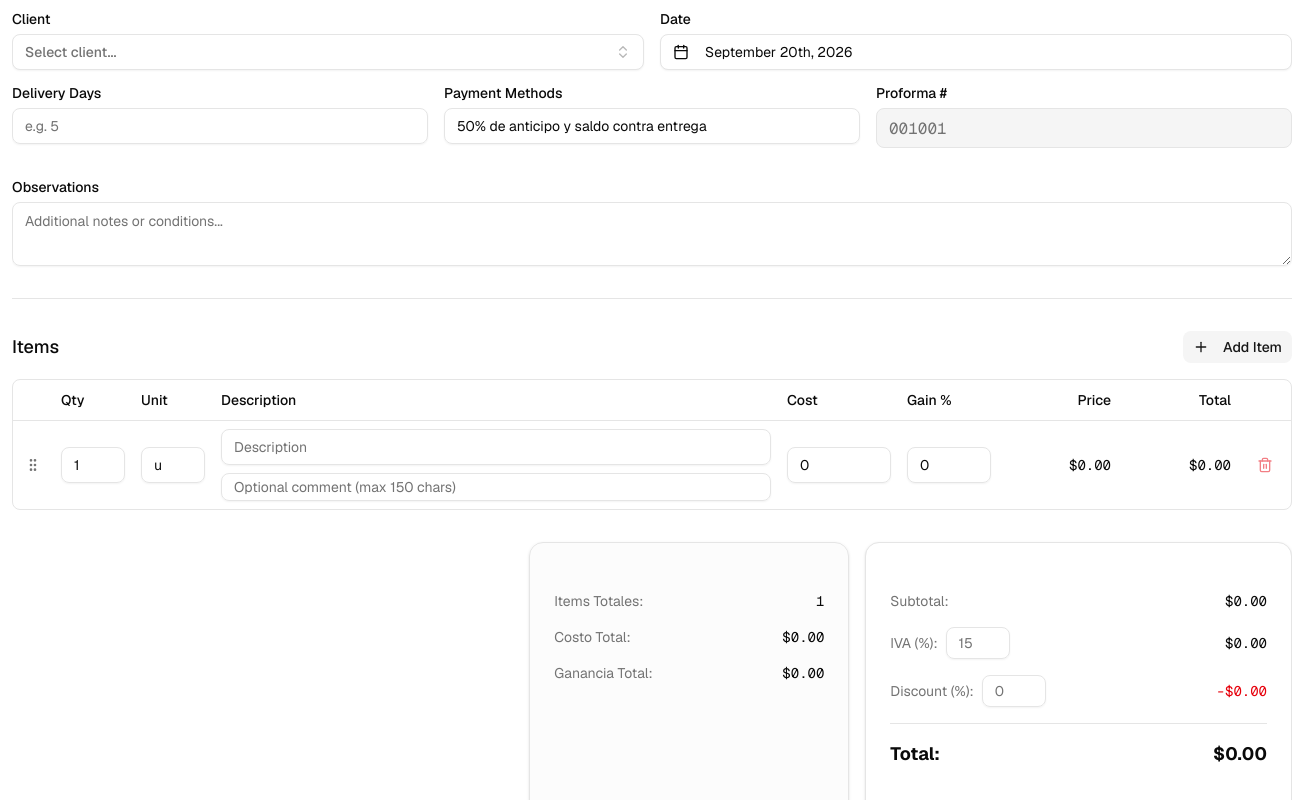
Test: ProformaForm › calculates totals correctly when item values change
The image size is (1304, 800).
Replace the text in the 3rd number field with "100" at (839, 464), box [787,446,891,482]
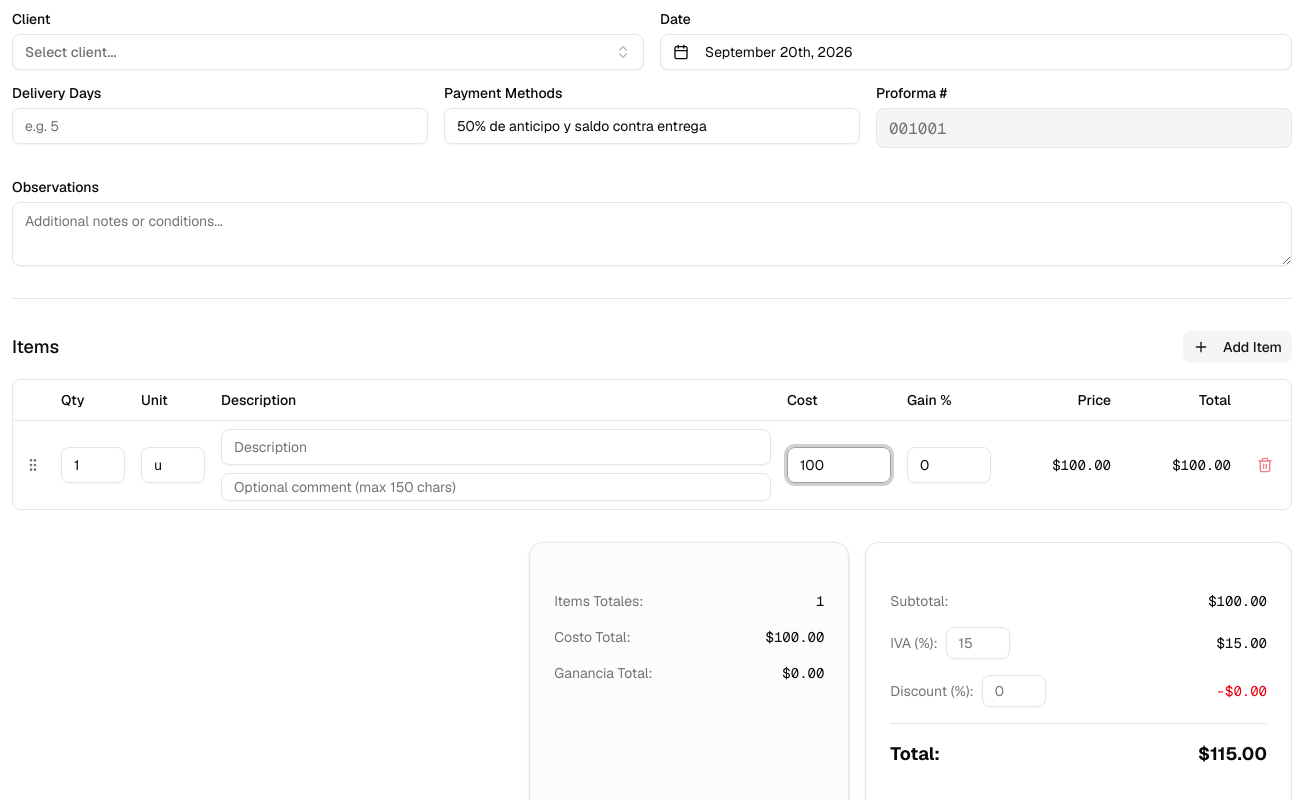
Replace the text in the 4th number field with "20" at (949, 464), box [907,446,991,482]
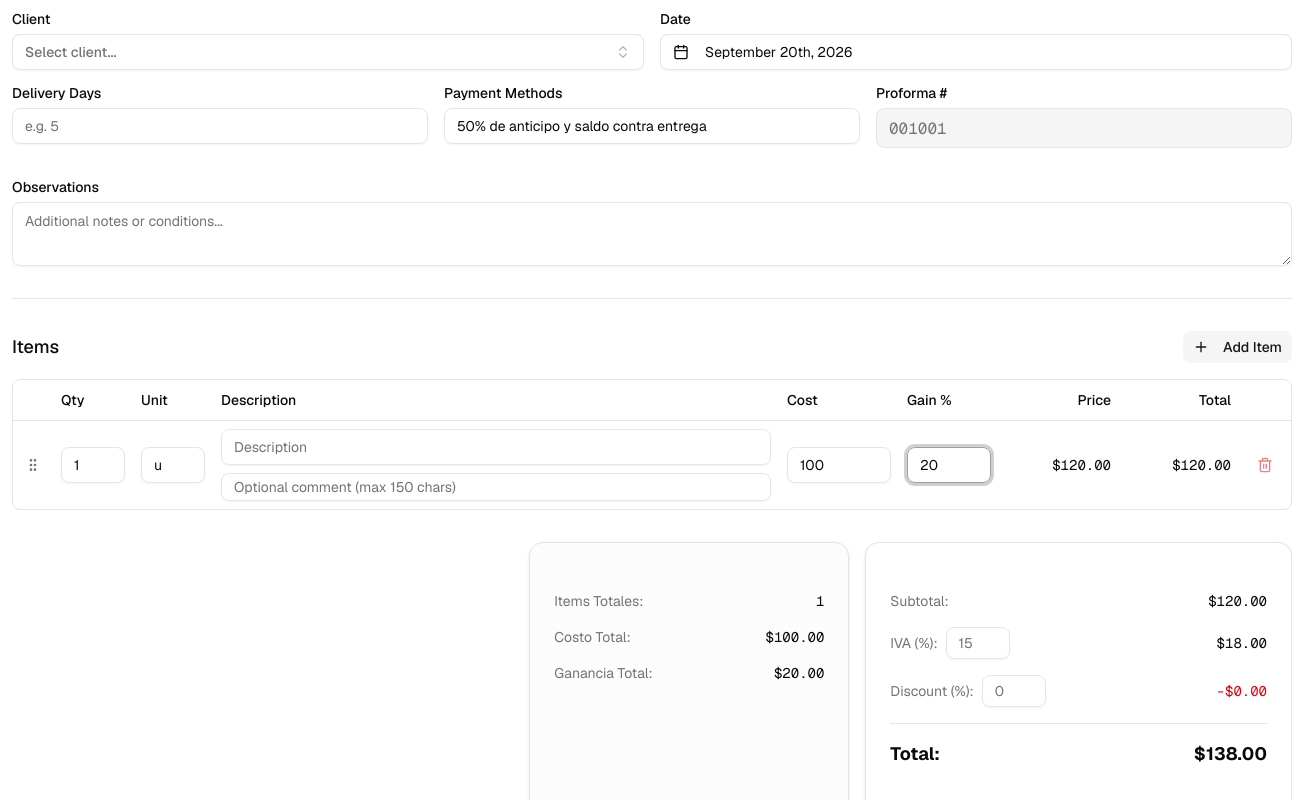
Replace the text in the 2nd number field with "2" at (93, 464), box [61,446,125,482]
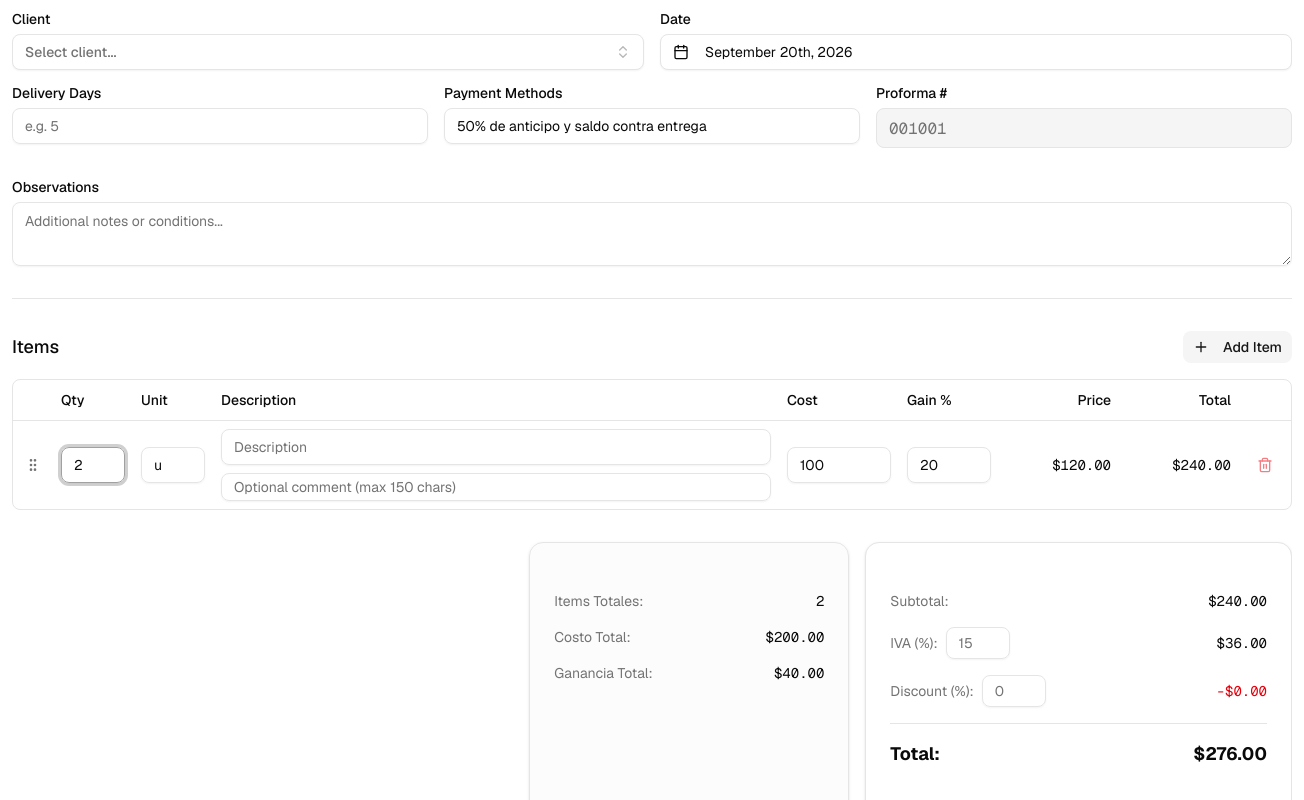
Result: the text "$240.00" is shown at [1119,420,1239,508]
Result: the text "$36.00" is shown at [1217,632,1267,652]
Result: the text "$276.00" is shown at [1193,740,1267,768]
